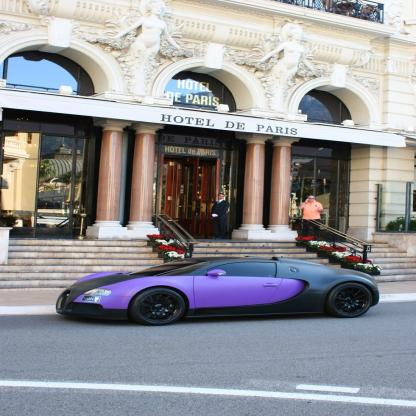Car: (55, 257, 383, 329)
